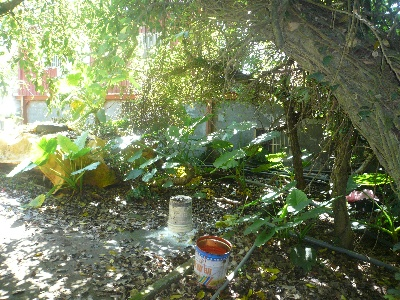bucket: (192, 236, 232, 294), (165, 192, 194, 235)
